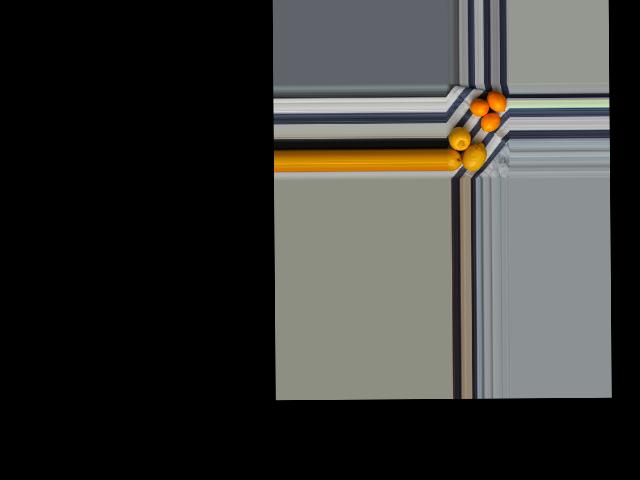lemon: (445, 148, 463, 173)
